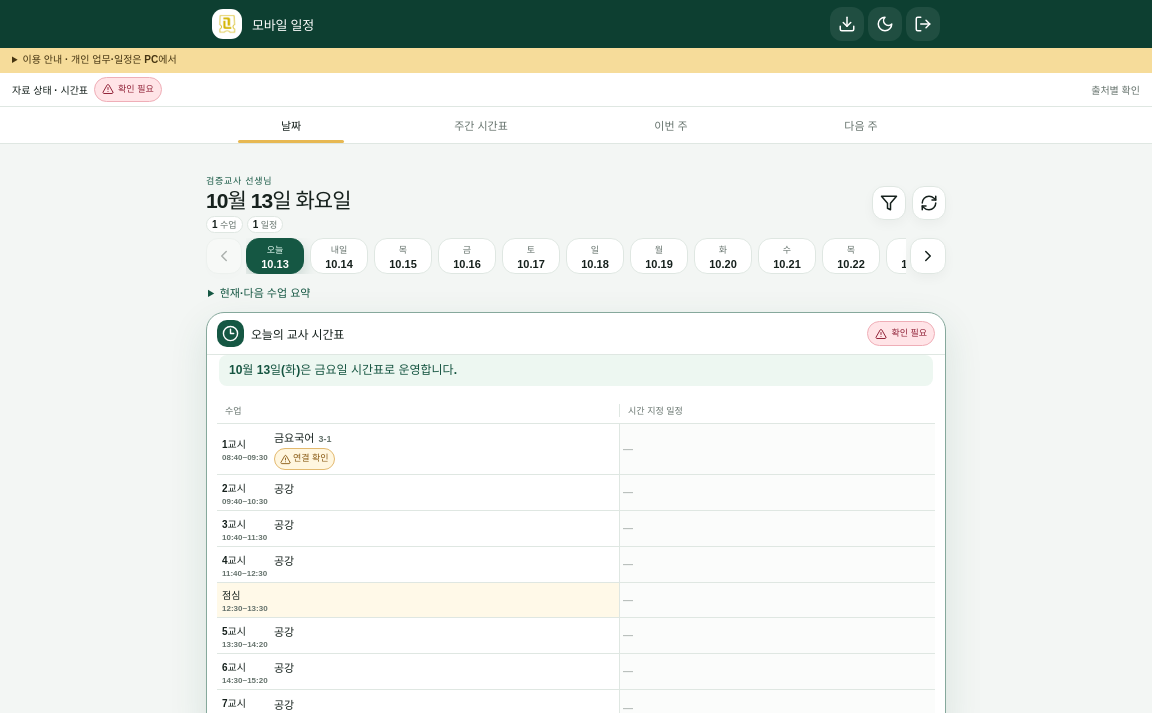
Test: 모바일 연결 안정화 통합 › 10월 13일 날짜별·주간 화면은 금요일 수업과 운영 안내를 표시한다
The image size is (1152, 713).
Expected: the text "금요국어" is shown, [274,432,314,444]
Expected: the text "10월 13일(화)은 금요일 시간표로 운영합니다." is shown, [219,355,933,386]
Click the tab "주간 시간표".
click(481, 124)  # box [386,106,576,142]
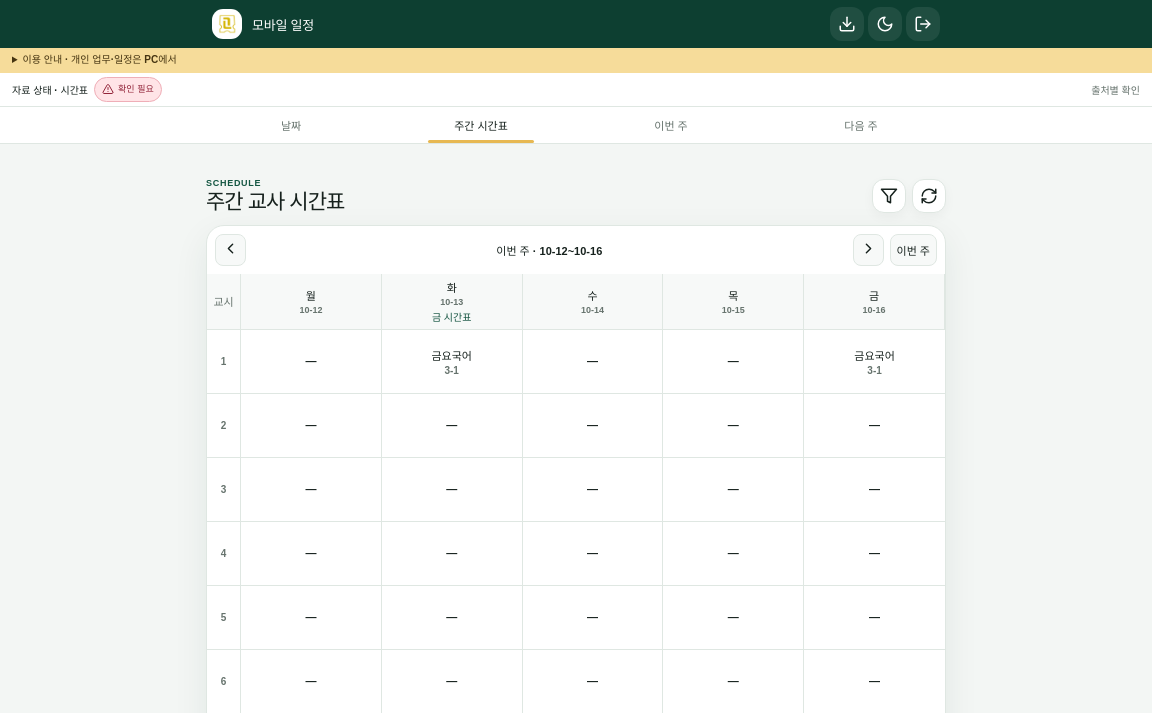
Now the text "금 시간표" is shown, box [432,312,472,322]
Now the text "10-13" is shown, box [440,296,463,306]
